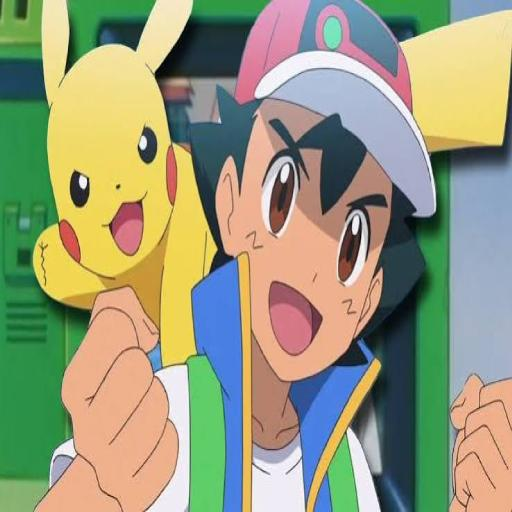Pikachu: (32, 0, 512, 368)
